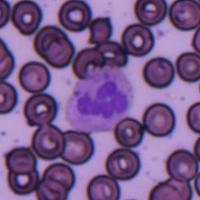N: (66, 68, 133, 133)
